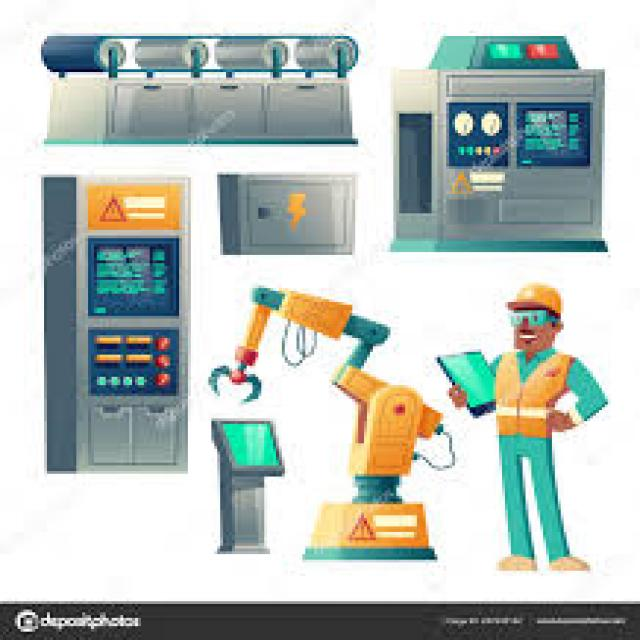Reflective-Jacket: (488, 346, 578, 444)
Safety-Helmet: (502, 274, 567, 316)
